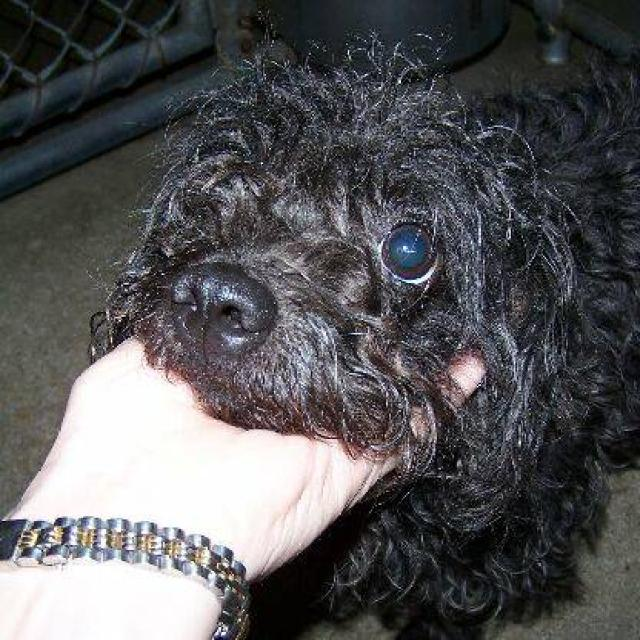dog: (84, 24, 638, 639)
